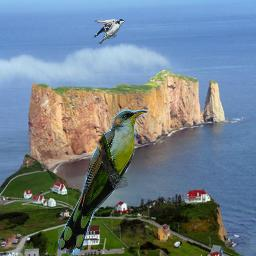Cuckoo: (58, 110, 147, 255)
Swallow: (91, 18, 125, 44)
